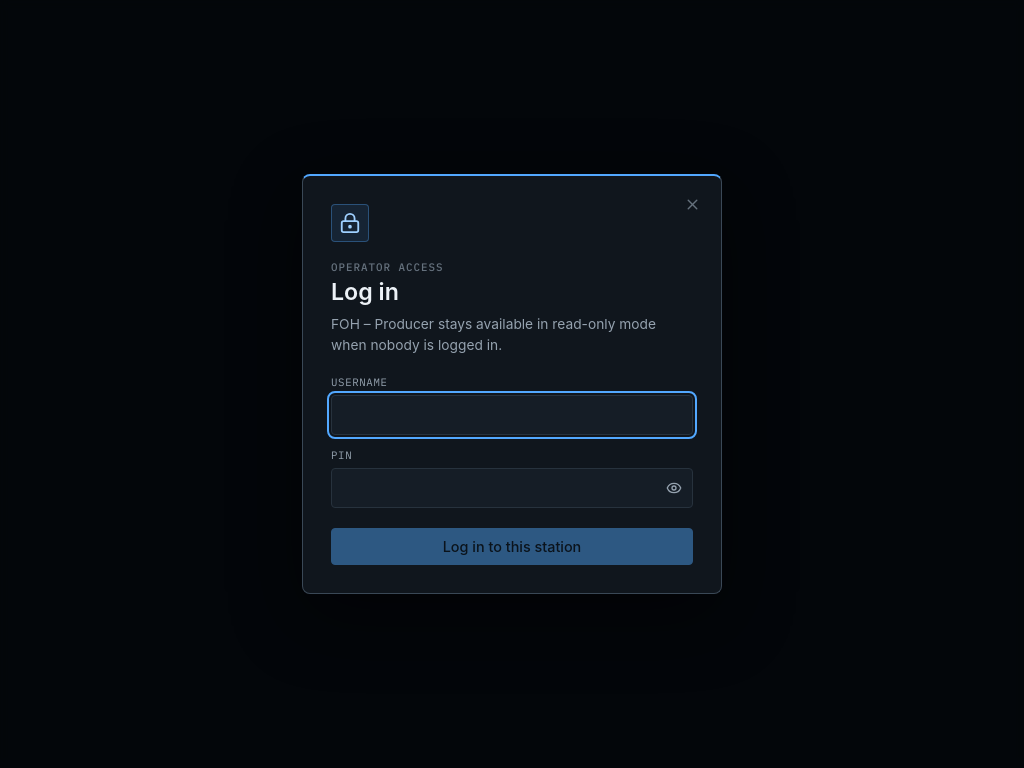
IdentityDialog › logs in on Enter and reports authentication failures
In the field labelled "Username": (512, 415) [331,395,693,435], type "operator"
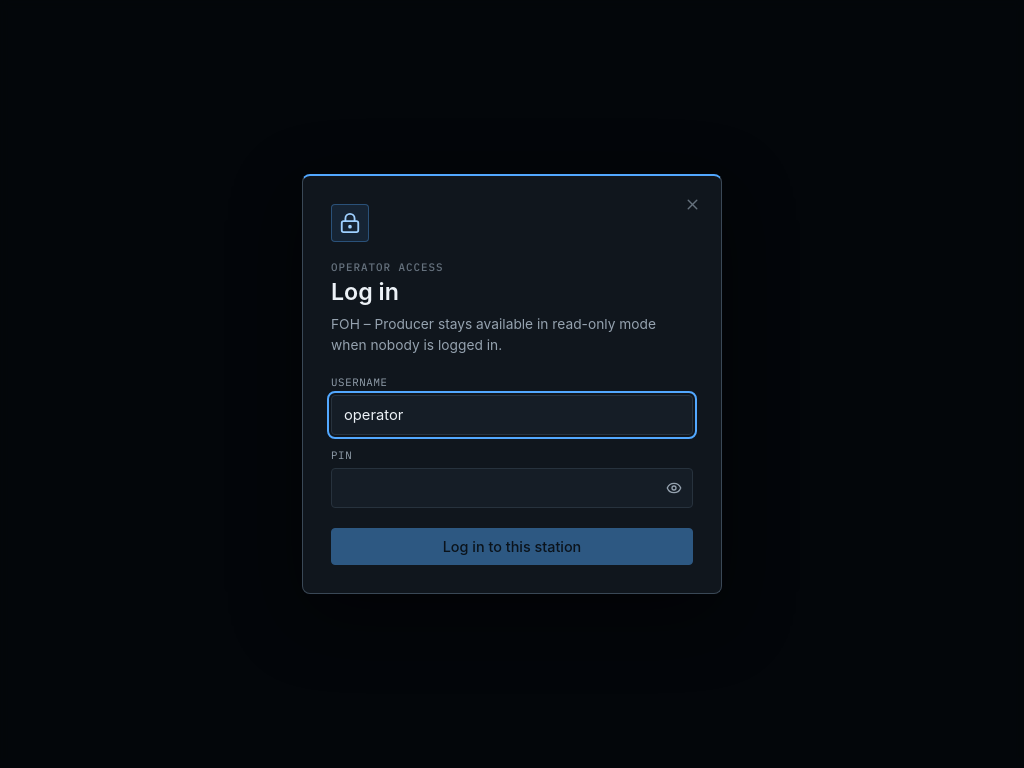
In the password field labelled "PIN": (512, 488) [331,468,693,508], type "0000"
Then press Enter
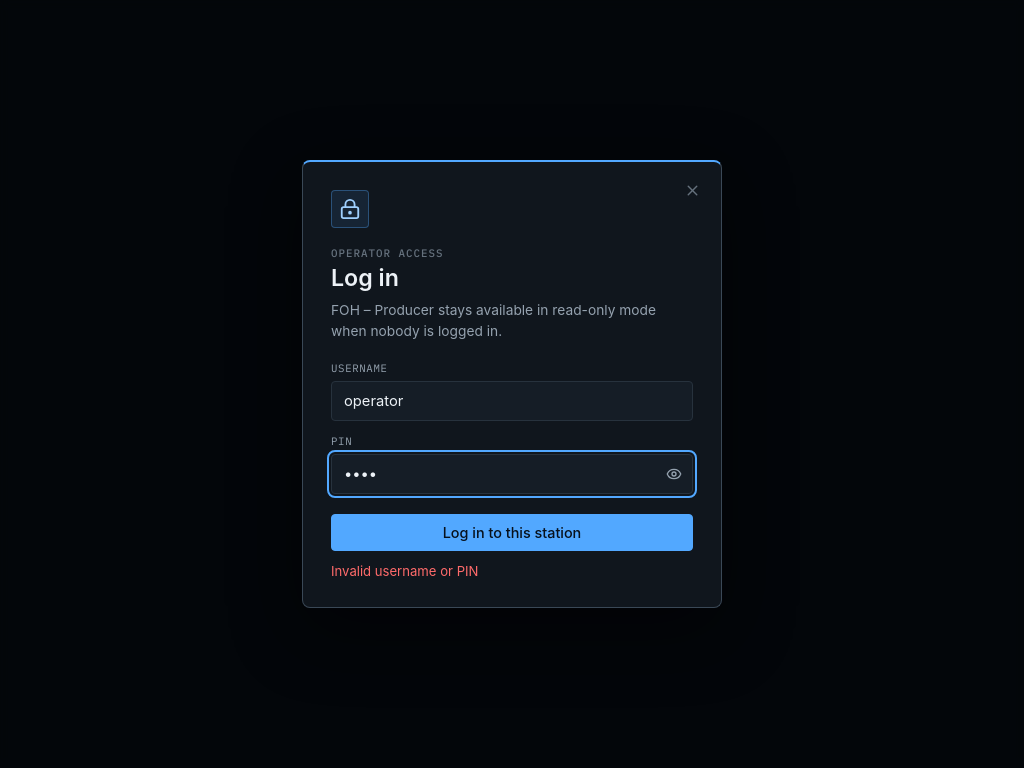
Expected: the text "Invalid username or PIN" is shown, [331,563,478,579]
